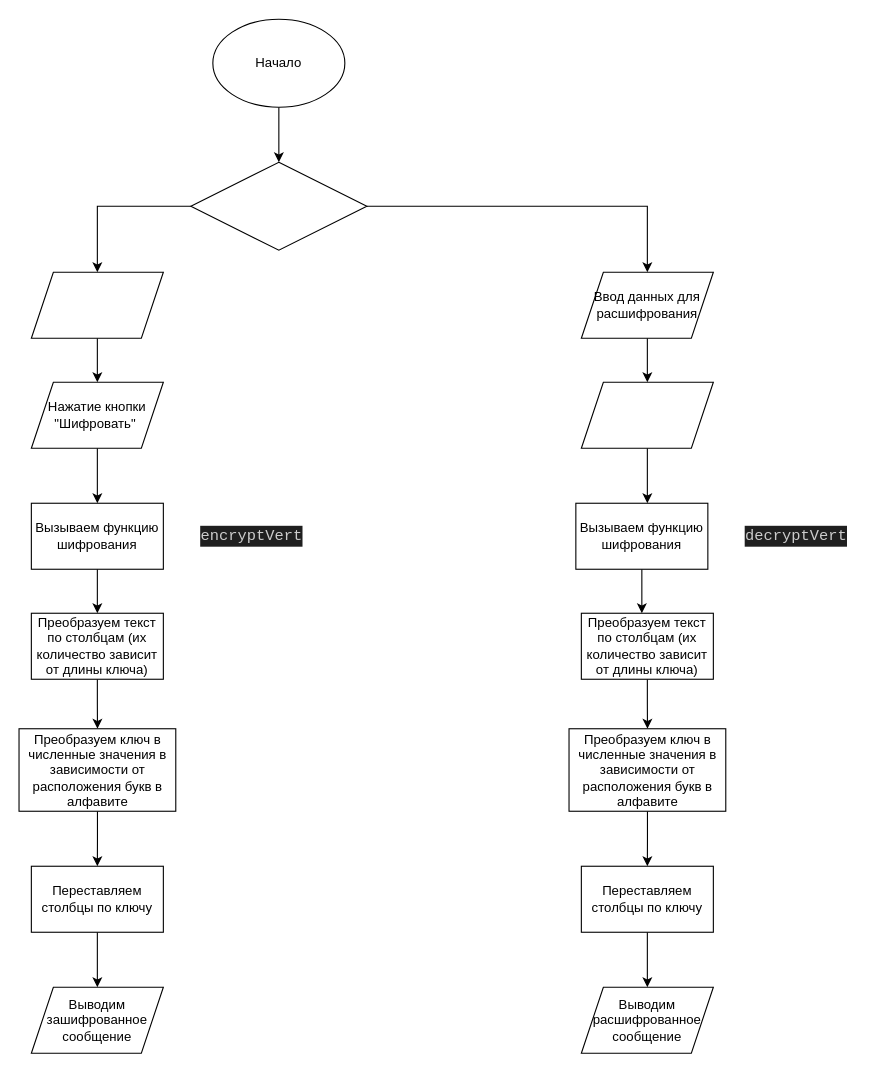
Image size: 876x1073. Some labels were removed from this diagram. Here are the shapes that lost their labels. From the top down, the centre of each, then its label:
[278,205]: Выбор дальнейшего действия
[96,304]: Ввод данных для шифрования
[646,414]: Нажатие кнопки "Расшифровать"
